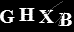B: (57, 12, 72, 27)
G: (1, 9, 15, 24)
H: (18, 7, 36, 22)
X: (37, 9, 55, 24)
